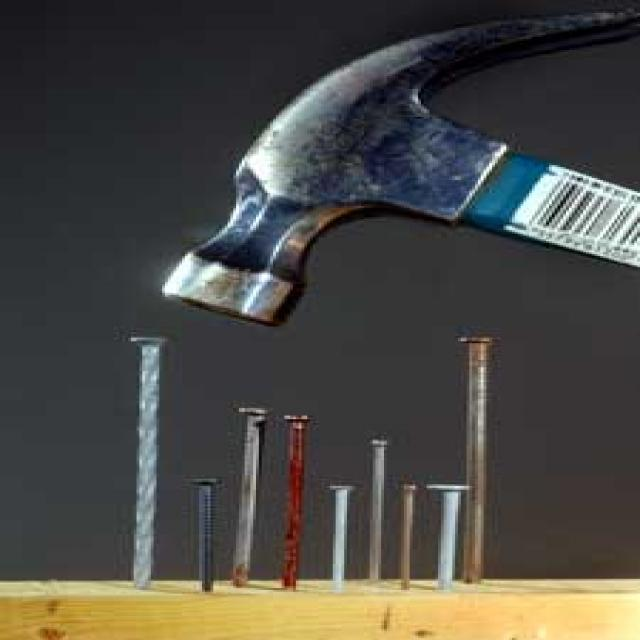hammer: (145, 0, 640, 333)
